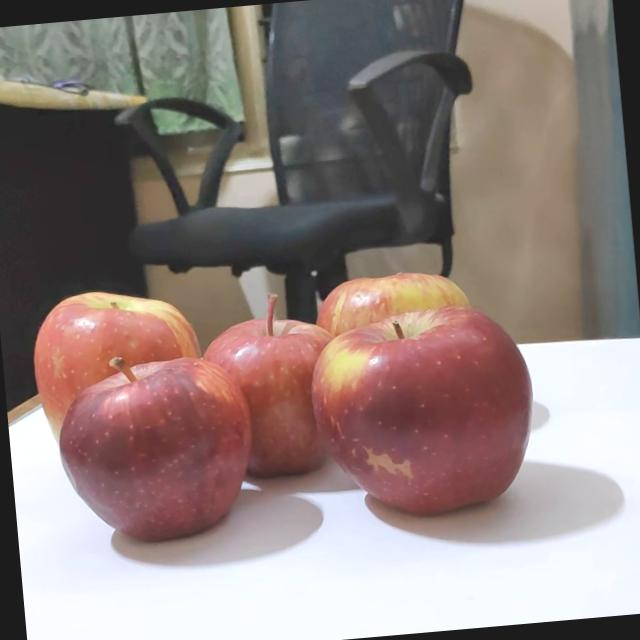apple: (298, 291, 544, 522), (46, 339, 256, 539), (185, 280, 352, 480), (35, 274, 216, 443), (314, 256, 496, 394)
